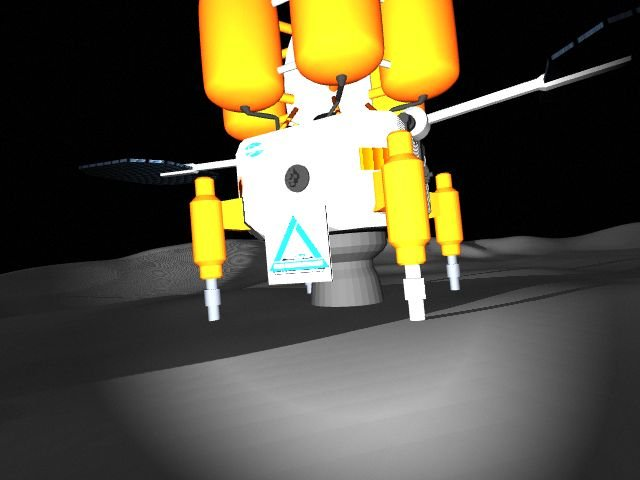basemarker: (267, 214, 329, 277)
